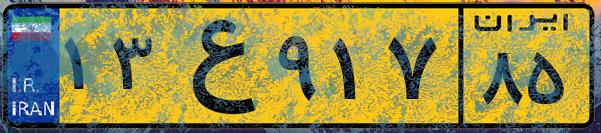1: (330, 28, 385, 110), (57, 26, 110, 100)
3: (110, 28, 158, 98)
5: (525, 38, 570, 115)
7: (385, 28, 445, 110)
8: (475, 38, 525, 113)
9: (270, 28, 330, 110)
ع: (158, 12, 270, 120)
